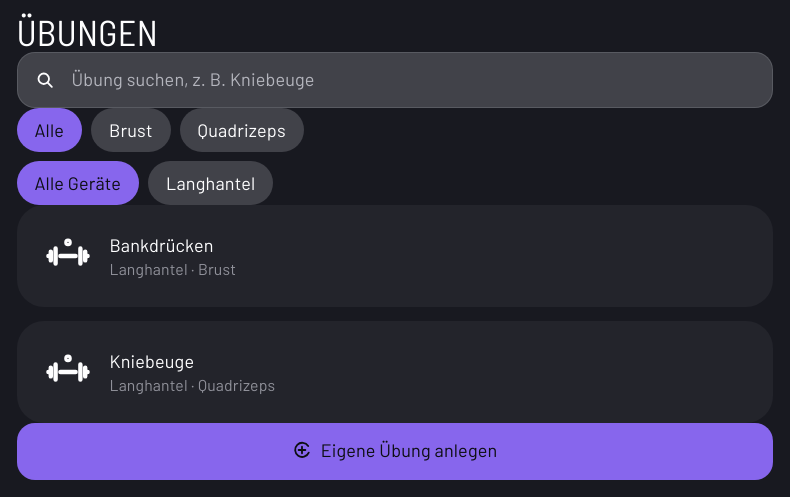
it: ExercisesPage › resets the muscle-group filter with the Alle chip
Step 1. Click the button "Brust" → {"x": 131, "y": 130}, box [91,108,171,152]
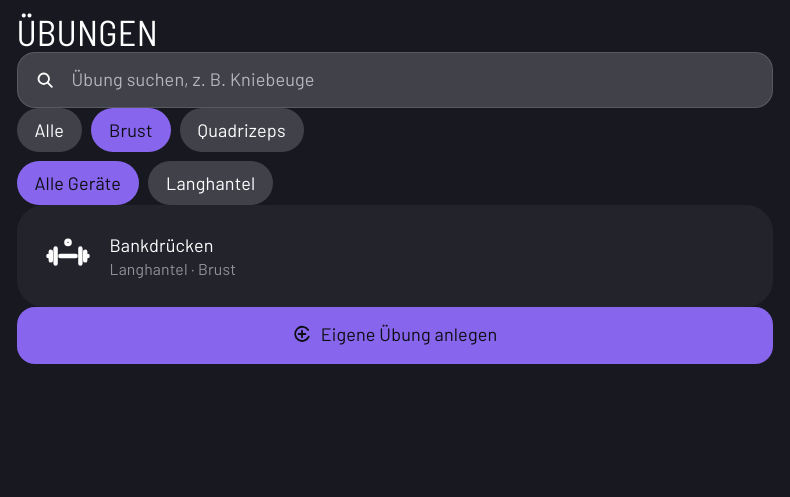
Step 2. Click the button "Alle" → {"x": 49, "y": 130}, box [16,108,82,152]
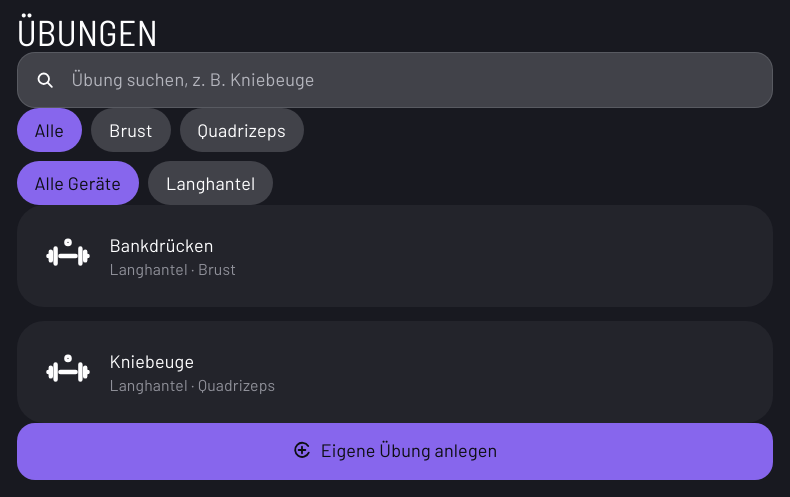
Result: the text "Kniebeuge" is shown at [110,350,194,372]
